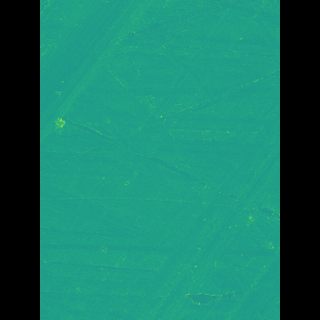Loch: (134, 129, 250, 320), (69, 0, 155, 146)
